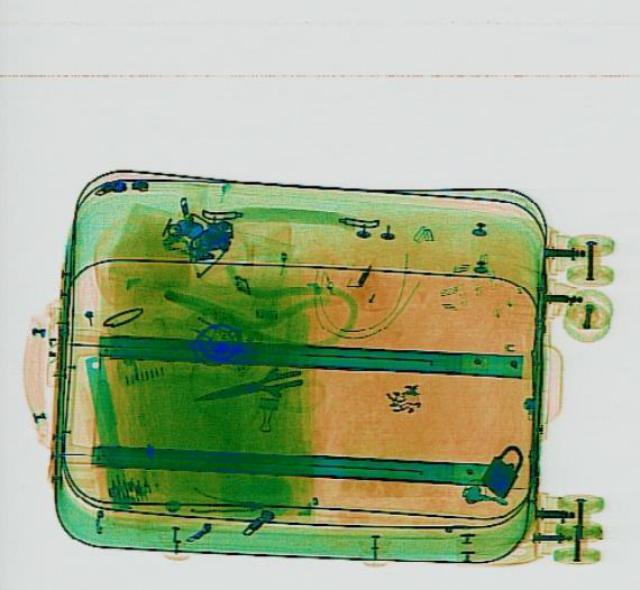Knife: (188, 361, 306, 413)
